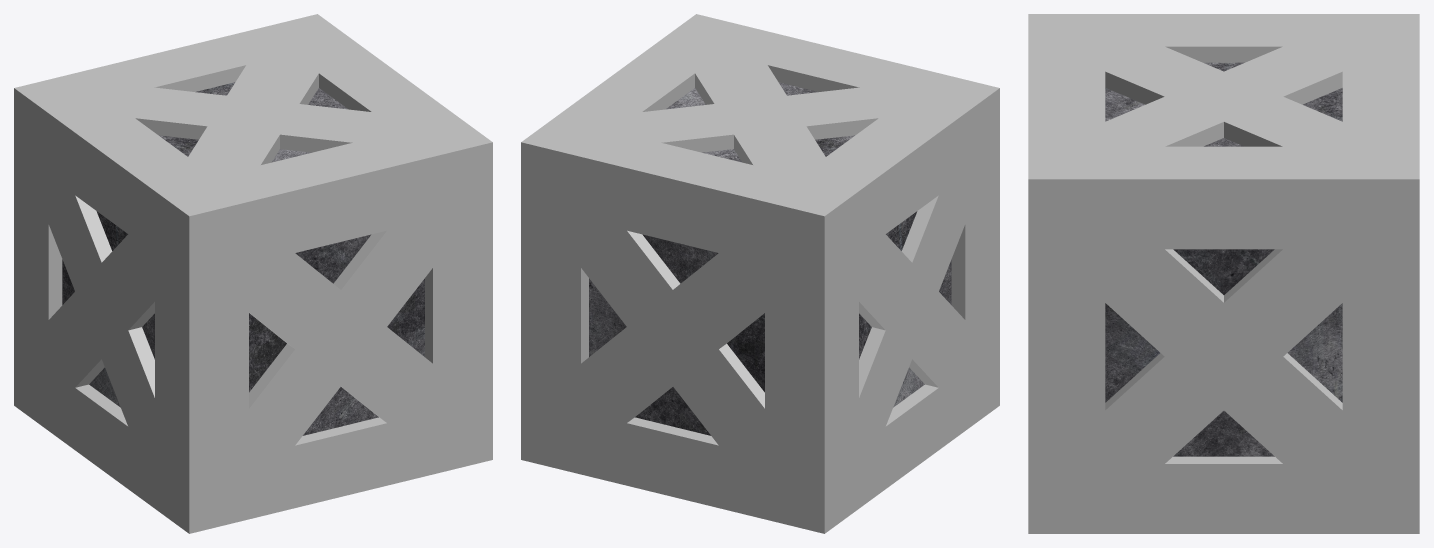
File: metal_crate.fbx
The picture shows the model from 3 angles, left to right: view 1: azimuth 30°, elevation 25°; view 2: azimuth 150°, elevation 25°; view 3: azimuth 270°, elevation 25°; orthographic projection. The views are drawn at different scales.
Visible parts, largest first — view 1: Cube; view 2: Cube; view 3: Cube.
Boxes of the visible parts, x1,y1,x2,y2 form: Cube: [14, 14, 492, 533]; Cube: [521, 14, 999, 533]; Cube: [1028, 14, 1419, 533].
Size of the model in its own units: 220 by 220 by 220.
